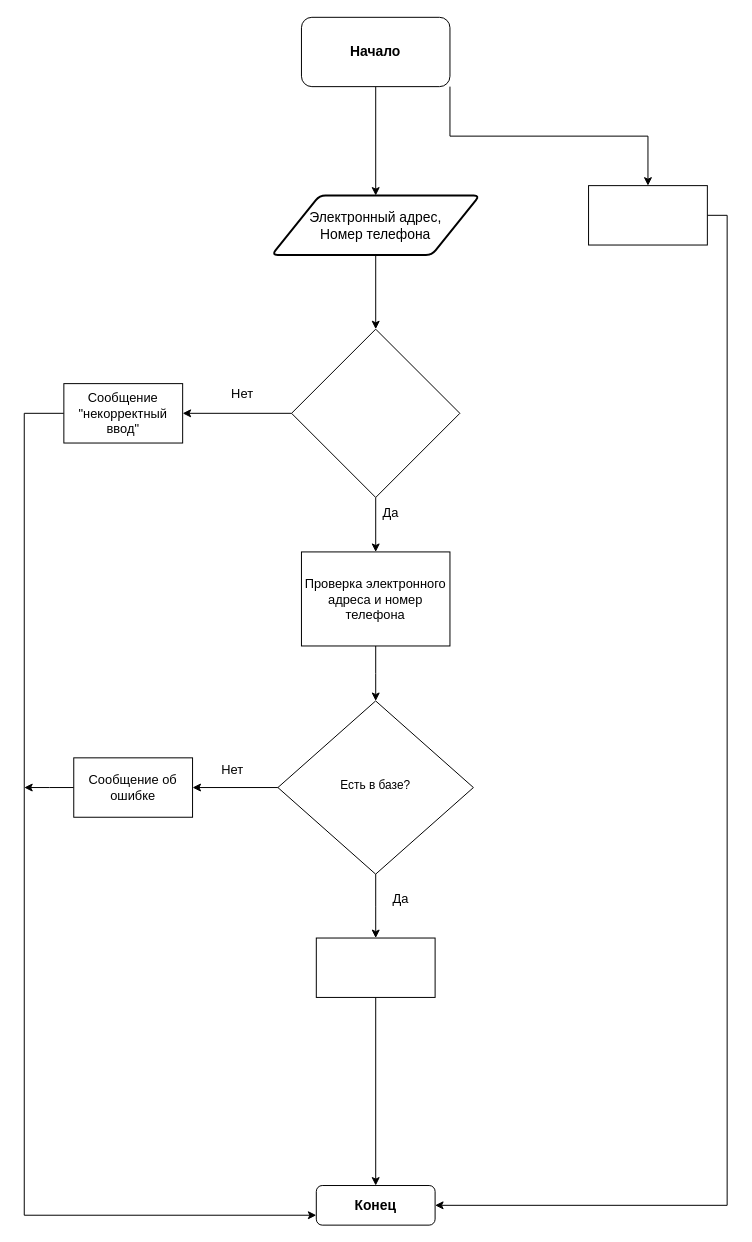
This 752x1242 diagram has some shape labels left out. Here are the shapes that lost their labels. From the top down, the box of each, then its label:
(588, 185, 707, 245): Отменить бронирование
(291, 328, 460, 497): Данные корректны?
(315, 937, 435, 997): Сообщение об отмене предзаказа
